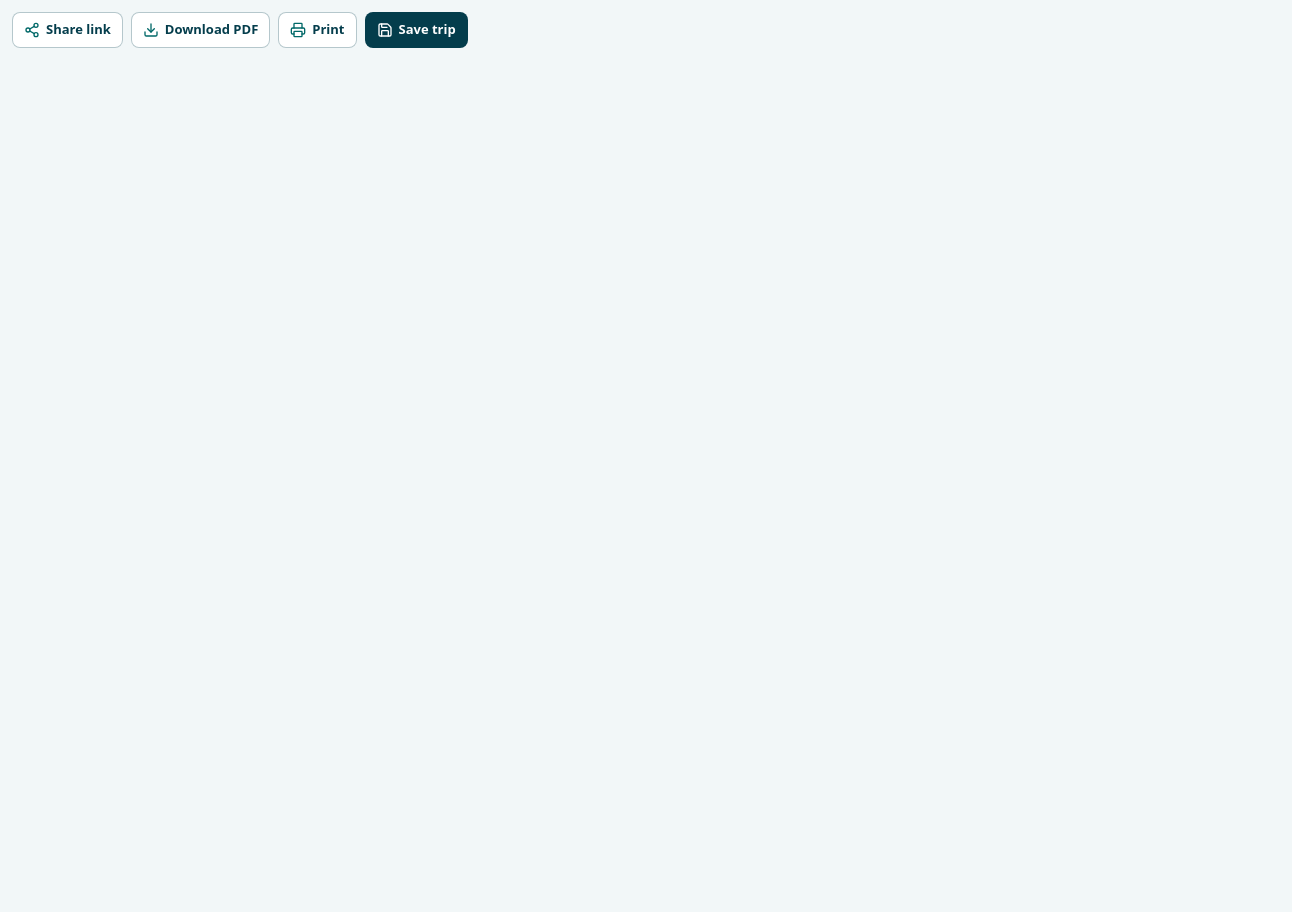
Test: PDF download › builds the PDF for every log and saves it under a dated name
Click the button with test id "btn-pdf": x=201, y=30 [131,12,270,48]
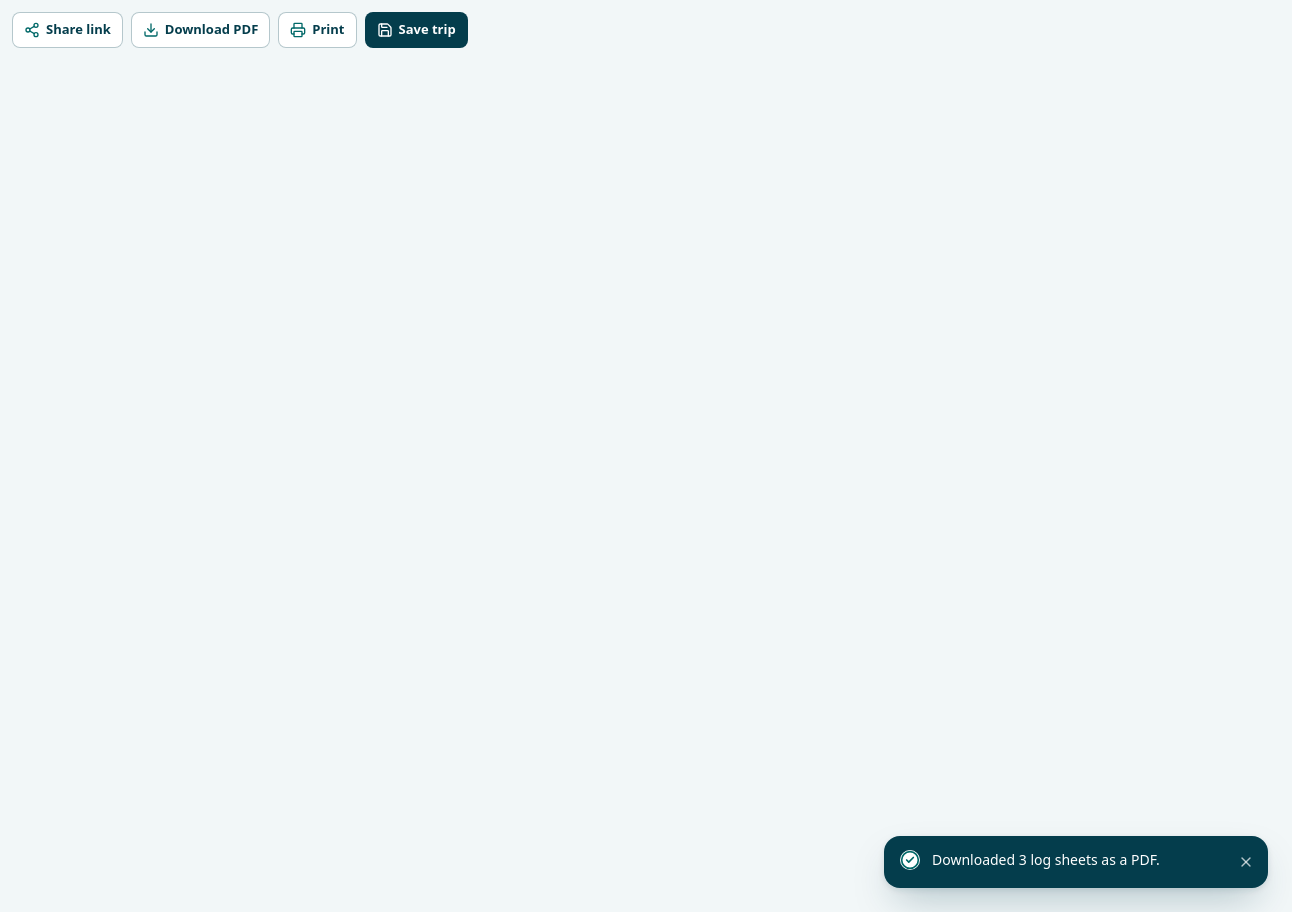
Result: the text "Downloaded 3 log sheets as a PDF." is shown at [932,850,1160,869]
